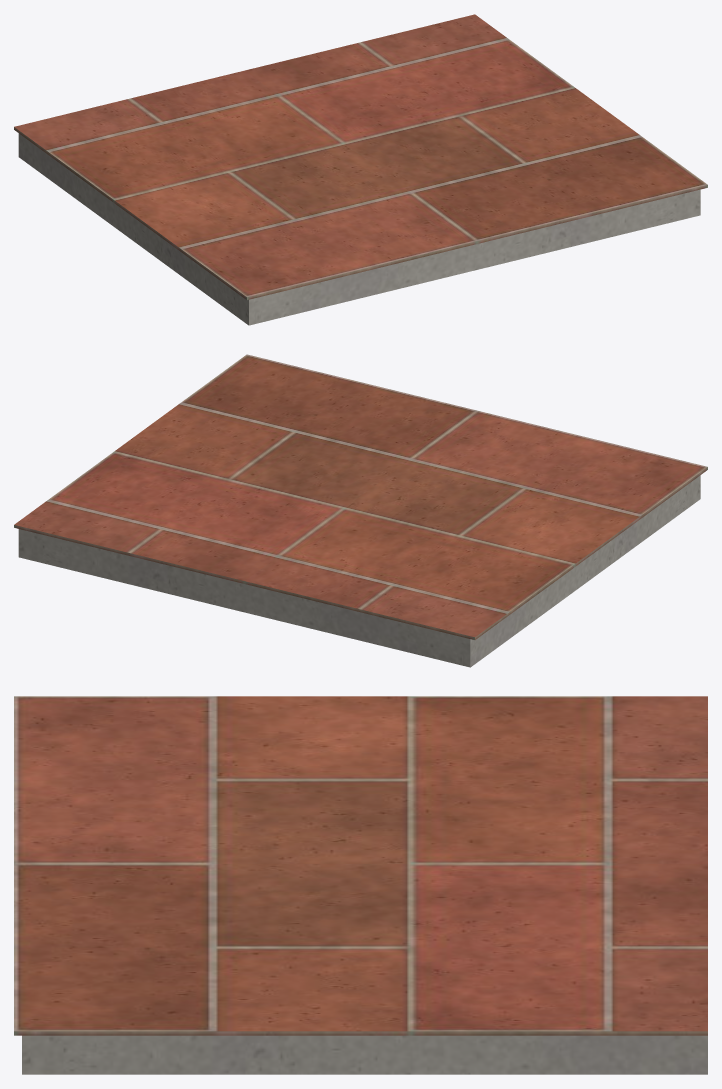
Rendered from floor_kit_e0_0_25_0.glb.
3 views of the same model, one above another, from view 1: azimuth 30°, elevation 25°; view 2: azimuth 150°, elevation 25°; view 3: azimuth 270°, elevation 25° (orthographic). The views are drawn at different scales.
Parts seen in each view (by area): view 1: floor_kit_e0_0_25_0_quarry, floor_kit_e0_0_25_0_concrete; view 2: floor_kit_e0_0_25_0_quarry, floor_kit_e0_0_25_0_concrete; view 3: floor_kit_e0_0_25_0_quarry, floor_kit_e0_0_25_0_concrete.
Boxes of the visible parts, <box> form: floor_kit_e0_0_25_0_quarry: <box>14,14,707,299</box>; floor_kit_e0_0_25_0_concrete: <box>18,133,700,325</box>; floor_kit_e0_0_25_0_quarry: <box>14,354,707,639</box>; floor_kit_e0_0_25_0_concrete: <box>18,475,700,667</box>; floor_kit_e0_0_25_0_quarry: <box>14,696,707,1035</box>; floor_kit_e0_0_25_0_concrete: <box>22,1035,707,1074</box>.
Size of the model in its own units: 2 by 0.13 by 1.75.
2 materials, 2 textured.
